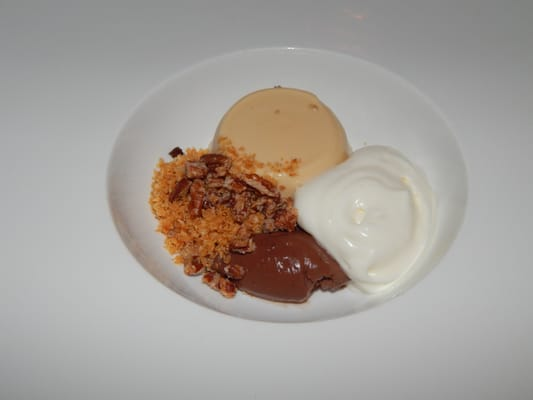curry: (4, 0, 533, 400)
